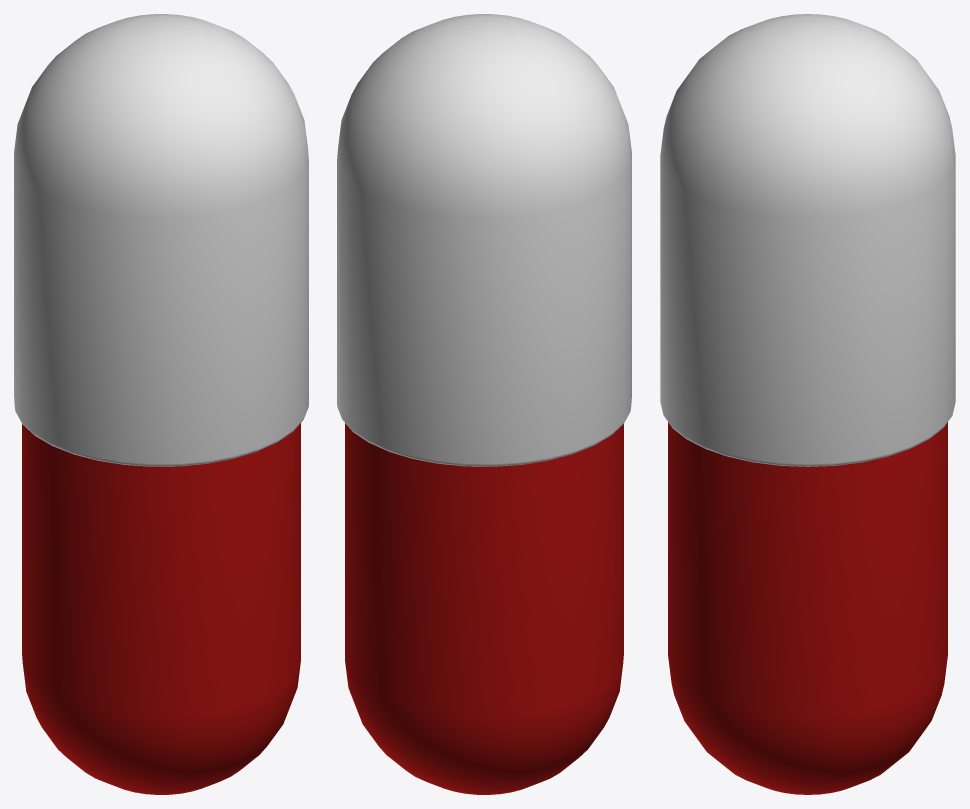
File: pill-1.glb
3 renders of one model, left to right at view 1: azimuth 30°, elevation 25°; view 2: azimuth 150°, elevation 25°; view 3: azimuth 270°, elevation 25°, orthographic.
Parts seen in each view (by area): view 1: Pill1_WhiteSmooth_0, Pill1_Red_0; view 2: Pill1_WhiteSmooth_0, Pill1_Red_0; view 3: Pill1_WhiteSmooth_0, Pill1_Red_0.
Boxes of the visible parts, x1=… form: Pill1_WhiteSmooth_0: x1=14, y1=14, x2=308, y2=466; Pill1_Red_0: x1=22, y1=423, x2=300, y2=794; Pill1_WhiteSmooth_0: x1=337, y1=14, x2=631, y2=466; Pill1_Red_0: x1=345, y1=423, x2=623, y2=794; Pill1_WhiteSmooth_0: x1=660, y1=14, x2=955, y2=466; Pill1_Red_0: x1=668, y1=422, x2=947, y2=794.
Size of the model in its own units: 0.0537 by 0.1505 by 0.0537.
